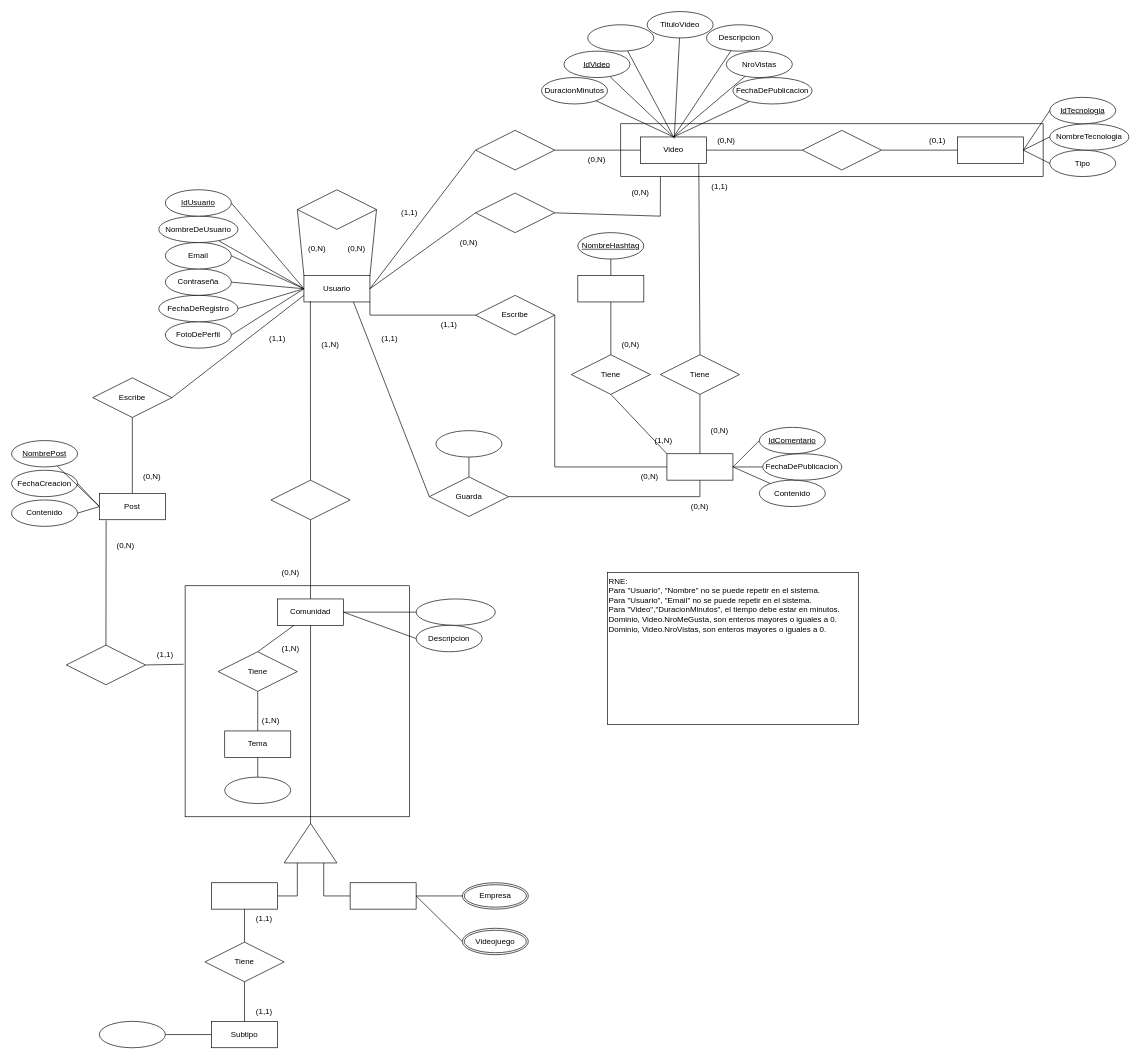
The diagram is 1140 pixels wide and 1059 high, and some of its shapes have lost their labels. Each missing label, with the box of its shape:
Asociado: (802, 130, 881, 170)
Comentario: (666, 453, 733, 480)
Fecha: (435, 430, 502, 457)
Hashtag: (577, 275, 644, 302)
IdSubtipo: (99, 1021, 165, 1048)
Ingenieria: (211, 882, 278, 909)
Juego: (349, 882, 416, 909)
NombreComunidad: (415, 598, 495, 625)
NroMeGusta: (587, 24, 654, 51)
Pertenece: (270, 479, 350, 520)
Recomienda: (475, 192, 555, 233)
Sigue/Seguido: (297, 189, 377, 229)
Sube: (475, 130, 555, 170)
Tecnologia: (957, 136, 1023, 163)
TituloTema: (224, 776, 291, 804)
Trata: (66, 644, 146, 685)
